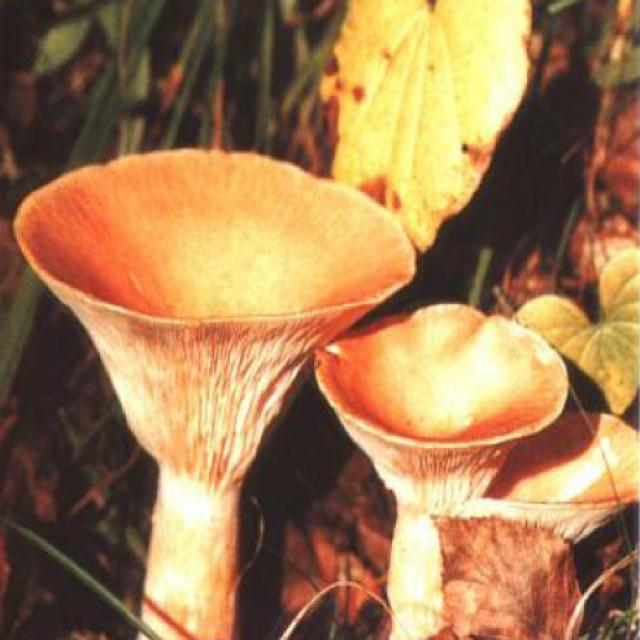Clitocybe maxima: (20, 150, 413, 637), (318, 303, 565, 640), (465, 413, 639, 544)
